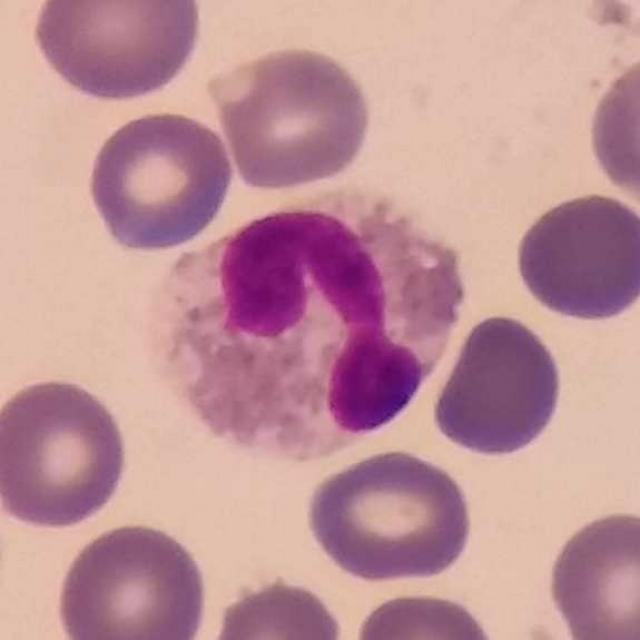eosino: (145, 180, 468, 462)
